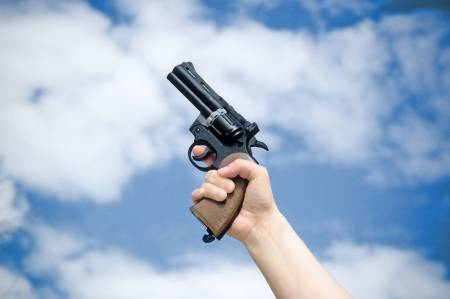Revolver: (136, 45, 297, 247)
